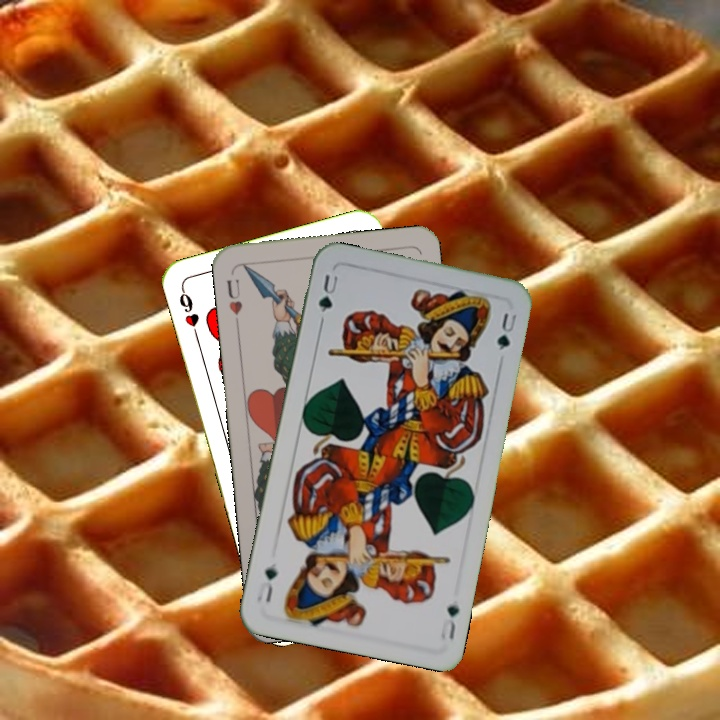GU: (314, 270, 340, 315), (436, 600, 462, 643)
H9: (175, 284, 202, 342)
HU: (223, 275, 245, 318)
